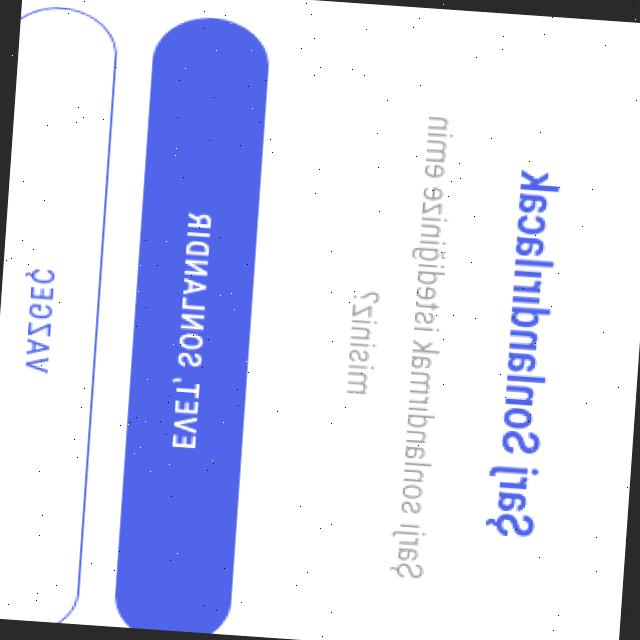QLabel: (388, 111, 459, 583), (482, 165, 568, 546), (166, 206, 216, 456), (15, 260, 59, 378), (340, 283, 382, 397)
VBtn: (112, 12, 272, 634), (0, 3, 122, 623)
VDialog: (0, 0, 640, 640)
